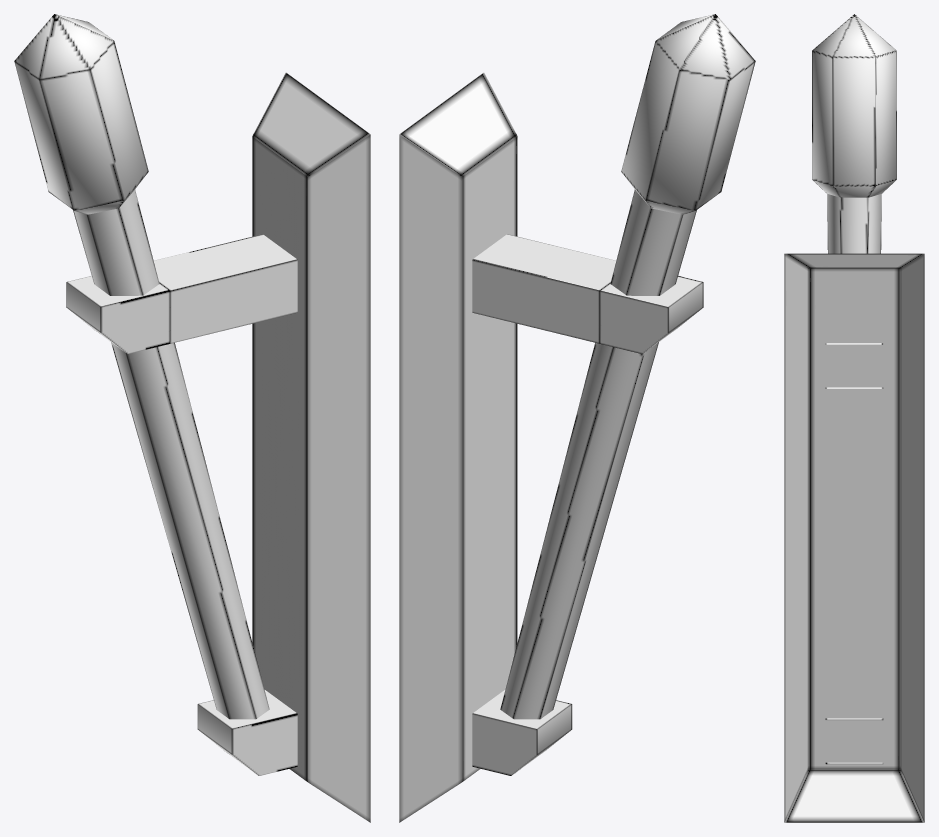
Rendered from Tileset Placeholder Torch.FBX.
3 renders of one model, left to right at view 1: azimuth 30°, elevation 25°; view 2: azimuth 150°, elevation 25°; view 3: azimuth 270°, elevation 25°, orthographic. The views are drawn at different scales.
Visible parts, largest first — view 1: Torch; view 2: Torch; view 3: Torch.
Part boxes in pixels (x1,y1,x2,y2): Torch: [14, 14, 370, 822]; Torch: [399, 14, 755, 822]; Torch: [784, 14, 924, 822].
Bounding box in the file's own units: 0.1587 × 0.4254 × 0.0774.
Materials: 1 (1 with a texture image).
